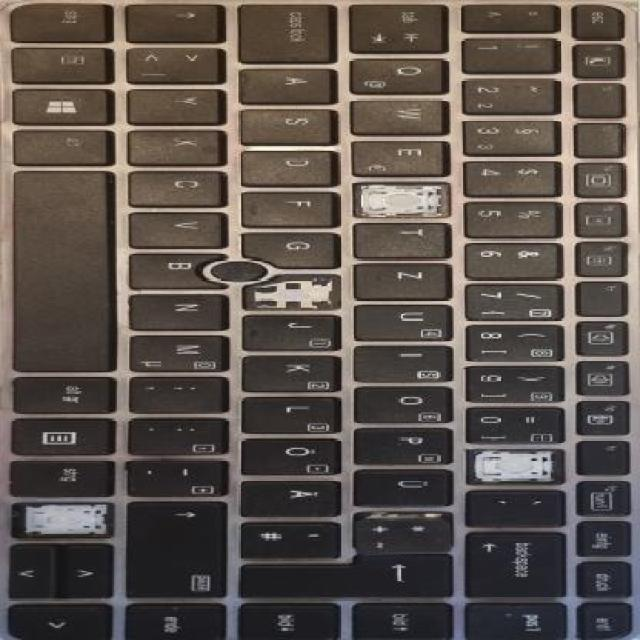Keyboard problems: (245, 275, 338, 309), (11, 503, 112, 534), (468, 451, 563, 483), (357, 185, 448, 215)
